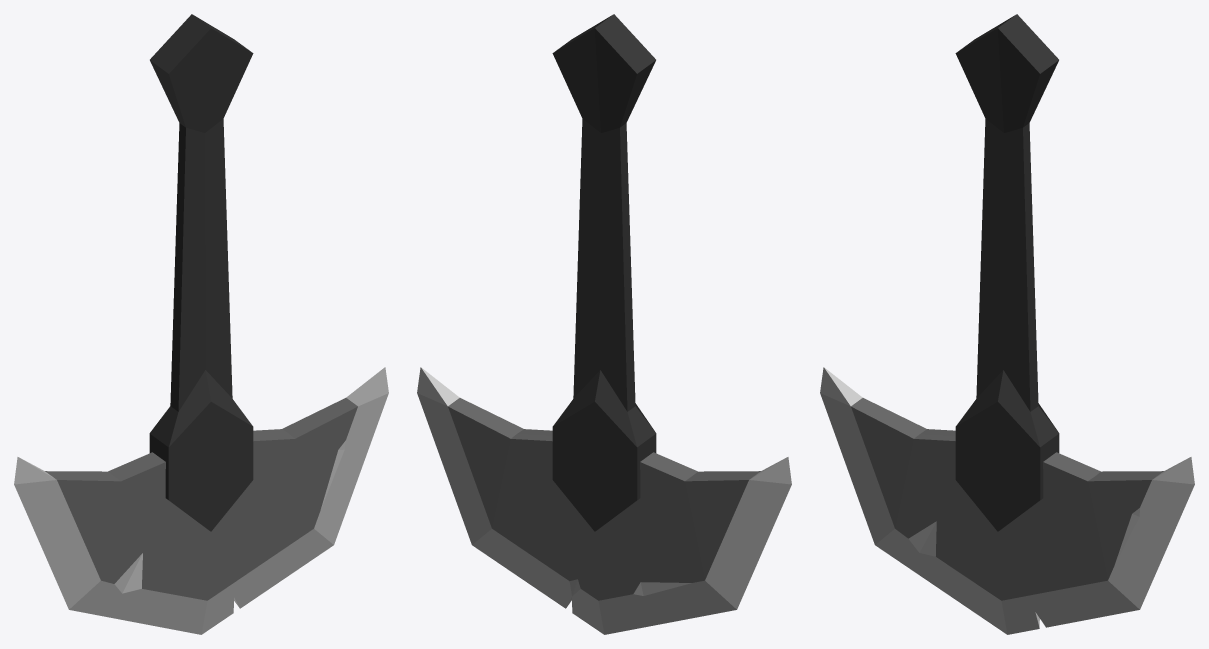
The model's file is Obstacle_SwingBlade.fbx.
The picture shows the model from 3 angles, left to right: view 1: azimuth 30°, elevation 25°; view 2: azimuth 150°, elevation 25°; view 3: azimuth 330°, elevation 25°; orthographic projection.
Visible parts, largest first — view 1: Obstacle_SwingBlade; view 2: Obstacle_SwingBlade; view 3: Obstacle_SwingBlade.
Part boxes in pixels (<box>): Obstacle_SwingBlade: <box>14,14,388,634</box>; Obstacle_SwingBlade: <box>417,14,791,634</box>; Obstacle_SwingBlade: <box>820,14,1194,634</box>.
Bounding box in the file's own units: 1100 × 1721 × 97.81.
